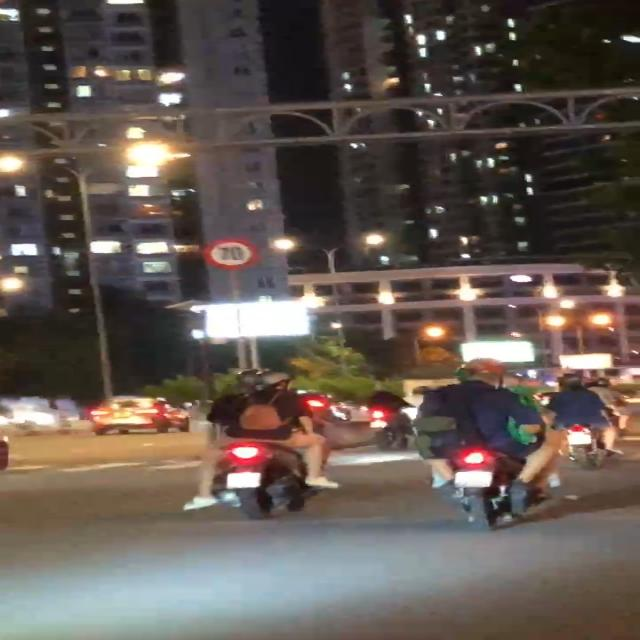Bien bao toc do toi da cho phep: (202, 236, 260, 270)
